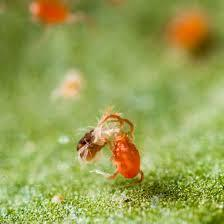insect: (97, 111, 148, 186)
